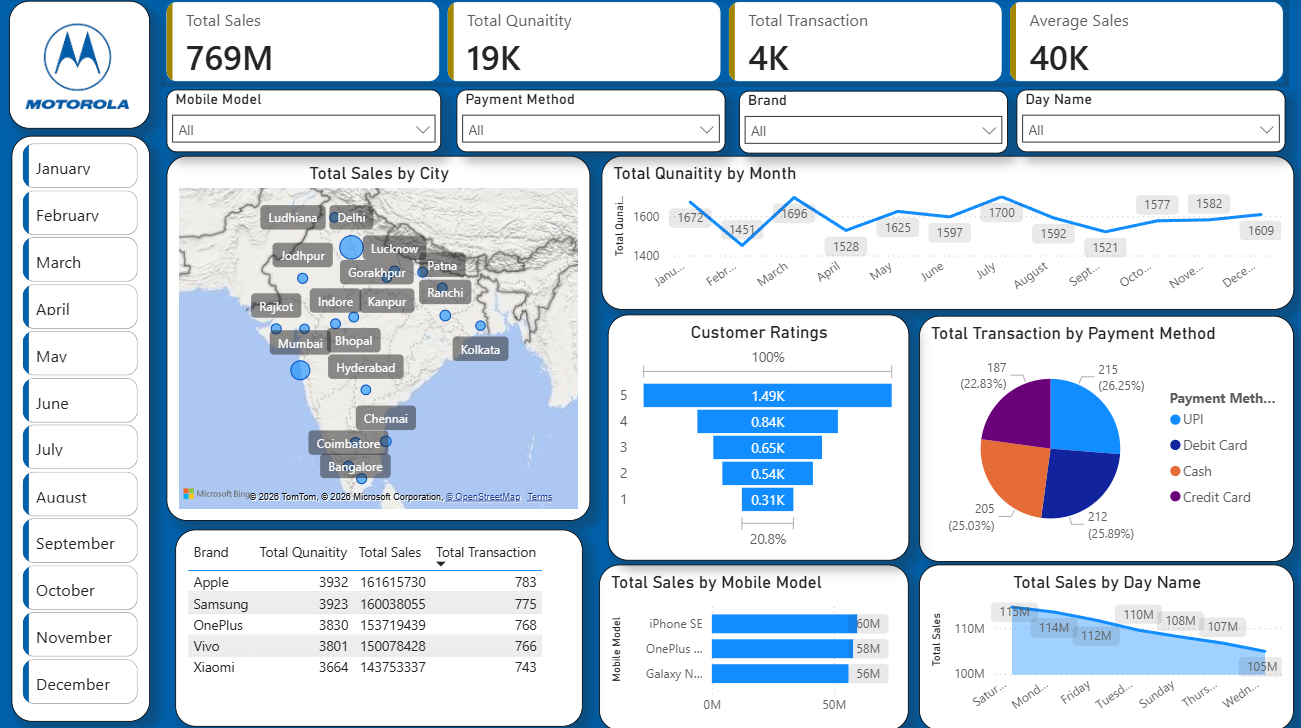

Layout of this report page (visuals, bound fields, positions):
{"tool":"powerbi","page":{"name":"Page 1","canvas":[1280,720],"ordinal":0},"visuals":[{"type":"shape","box":[9.9,3.7,138.3,125.9],"z":0},{"type":"shape","box":[12.3,135.8,135.8,575.3],"z":1000},{"type":"advancedSlicerVisual","fields":{"Values":["Sales.Date.Variation.Date Hierarchy.Month"]},"box":[23.5,143.2,113.6,560.5],"z":2000},{"type":"cardVisual","fields":{"Data":["Sales.Total Sales","Sales.Total Qunaitity","Sales.Total Transaction","Sales.Average"]},"box":[159.5,0,1106.8,88.3],"z":3000},{"type":"map","fields":{"Category":["Sales.City"],"Size":["Sales.Total Sales"]},"box":[164.4,155.8,416,358.3],"z":4000},{"type":"lineChart","fields":{"Category":["Sales.Date.Variation.Date Hierarchy.Month","Sales.Date.Variation.Date Hierarchy.Day"],"Y":["Sales.Total Qunaitity"]},"box":[591.4,155.8,679.8,150.9],"z":5000},{"type":"clusteredBarChart","fields":{"Category":["Sales.Mobile Model"],"Y":["Sales.Total Sales"]},"box":[589,557.1,304.3,163.2],"z":6000},{"type":"pieChart","fields":{"Y":["Sales.Total Transaction"],"Category":["Sales.Payment Method"]},"box":[903.1,312.9,368.1,241.7],"z":7000},{"type":"funnel","title":"Customer Ratings ","fields":{"Category":["Sales.Customer Ratings"],"Y":["CountNonNull(Sales.Customer Ratings)"]},"box":[597.5,311.7,295.7,241.7],"z":8000},{"type":"areaChart","fields":{"Y":["Sales.Total Sales"],"Category":["Sales.Day Name"]},"box":[903.1,557.1,368.1,163.2],"z":9000},{"type":"tableEx","fields":{"Values":["Sales.Brand","Sales.Total Qunaitity","Sales.Total Sales","Sales.Total Transaction"]},"box":[173,522.7,400,193.9],"z":10000},{"type":"slicer","fields":{"Values":["Sales.Mobile Model"]},"box":[164.4,90.8,269.9,61.4],"z":11000},{"type":"slicer","fields":{"Values":["Sales.Payment Method"]},"box":[449.1,90.8,263.8,61.4],"z":12000},{"type":"slicer","fields":{"Values":["Sales.Brand"]},"box":[726.4,92,263.8,61.4],"z":13000},{"type":"slicer","fields":{"Values":["Sales.Day Name"]},"box":[998.8,90.8,263.8,61.4],"z":14000},{"type":"image","box":[19.6,17.2,114.1,101.8],"z":15000}]}

Visuals, with their boxes in screenshot pixels (x1, y1, x2, y2), scaled from the page's 1280x720 canvas onto the 1301x728 screenshot:
shape: [10,4,151,131]
shape: [13,137,151,719]
advancedSlicerVisual - Sales.Date.Variation.Date Hierarchy.Month: [24,145,139,712]
cardVisual - Sales.Total Sales x Sales.Total Qunaitity: [162,0,1287,89]
map - Sales.City x Sales.Total Sales: [167,158,590,520]
lineChart - Sales.Date.Variation.Date Hierarchy.Month x Sales.Date.Variation.Date Hierarchy.Day: [601,158,1292,310]
clusteredBarChart - Sales.Mobile Model x Sales.Total Sales: [599,563,908,727]
pieChart - Sales.Total Transaction x Sales.Payment Method: [918,316,1292,561]
"Customer Ratings " funnel: [607,315,908,560]
areaChart - Sales.Total Sales x Sales.Day Name: [918,563,1292,727]
tableEx - Sales.Brand x Sales.Total Qunaitity: [176,529,582,725]
slicer - Sales.Mobile Model: [167,92,441,154]
slicer - Sales.Payment Method: [456,92,725,154]
slicer - Sales.Brand: [738,93,1006,155]
slicer - Sales.Day Name: [1015,92,1283,154]
image: [20,17,136,120]
